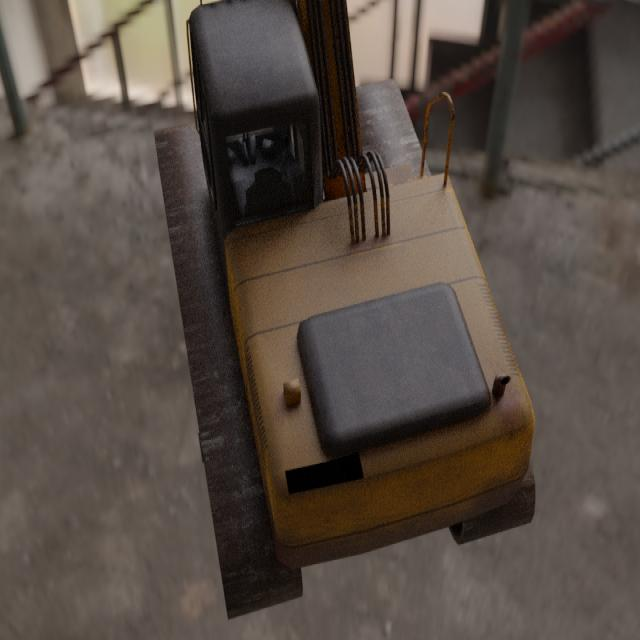excavator: (153, 0, 535, 621)
